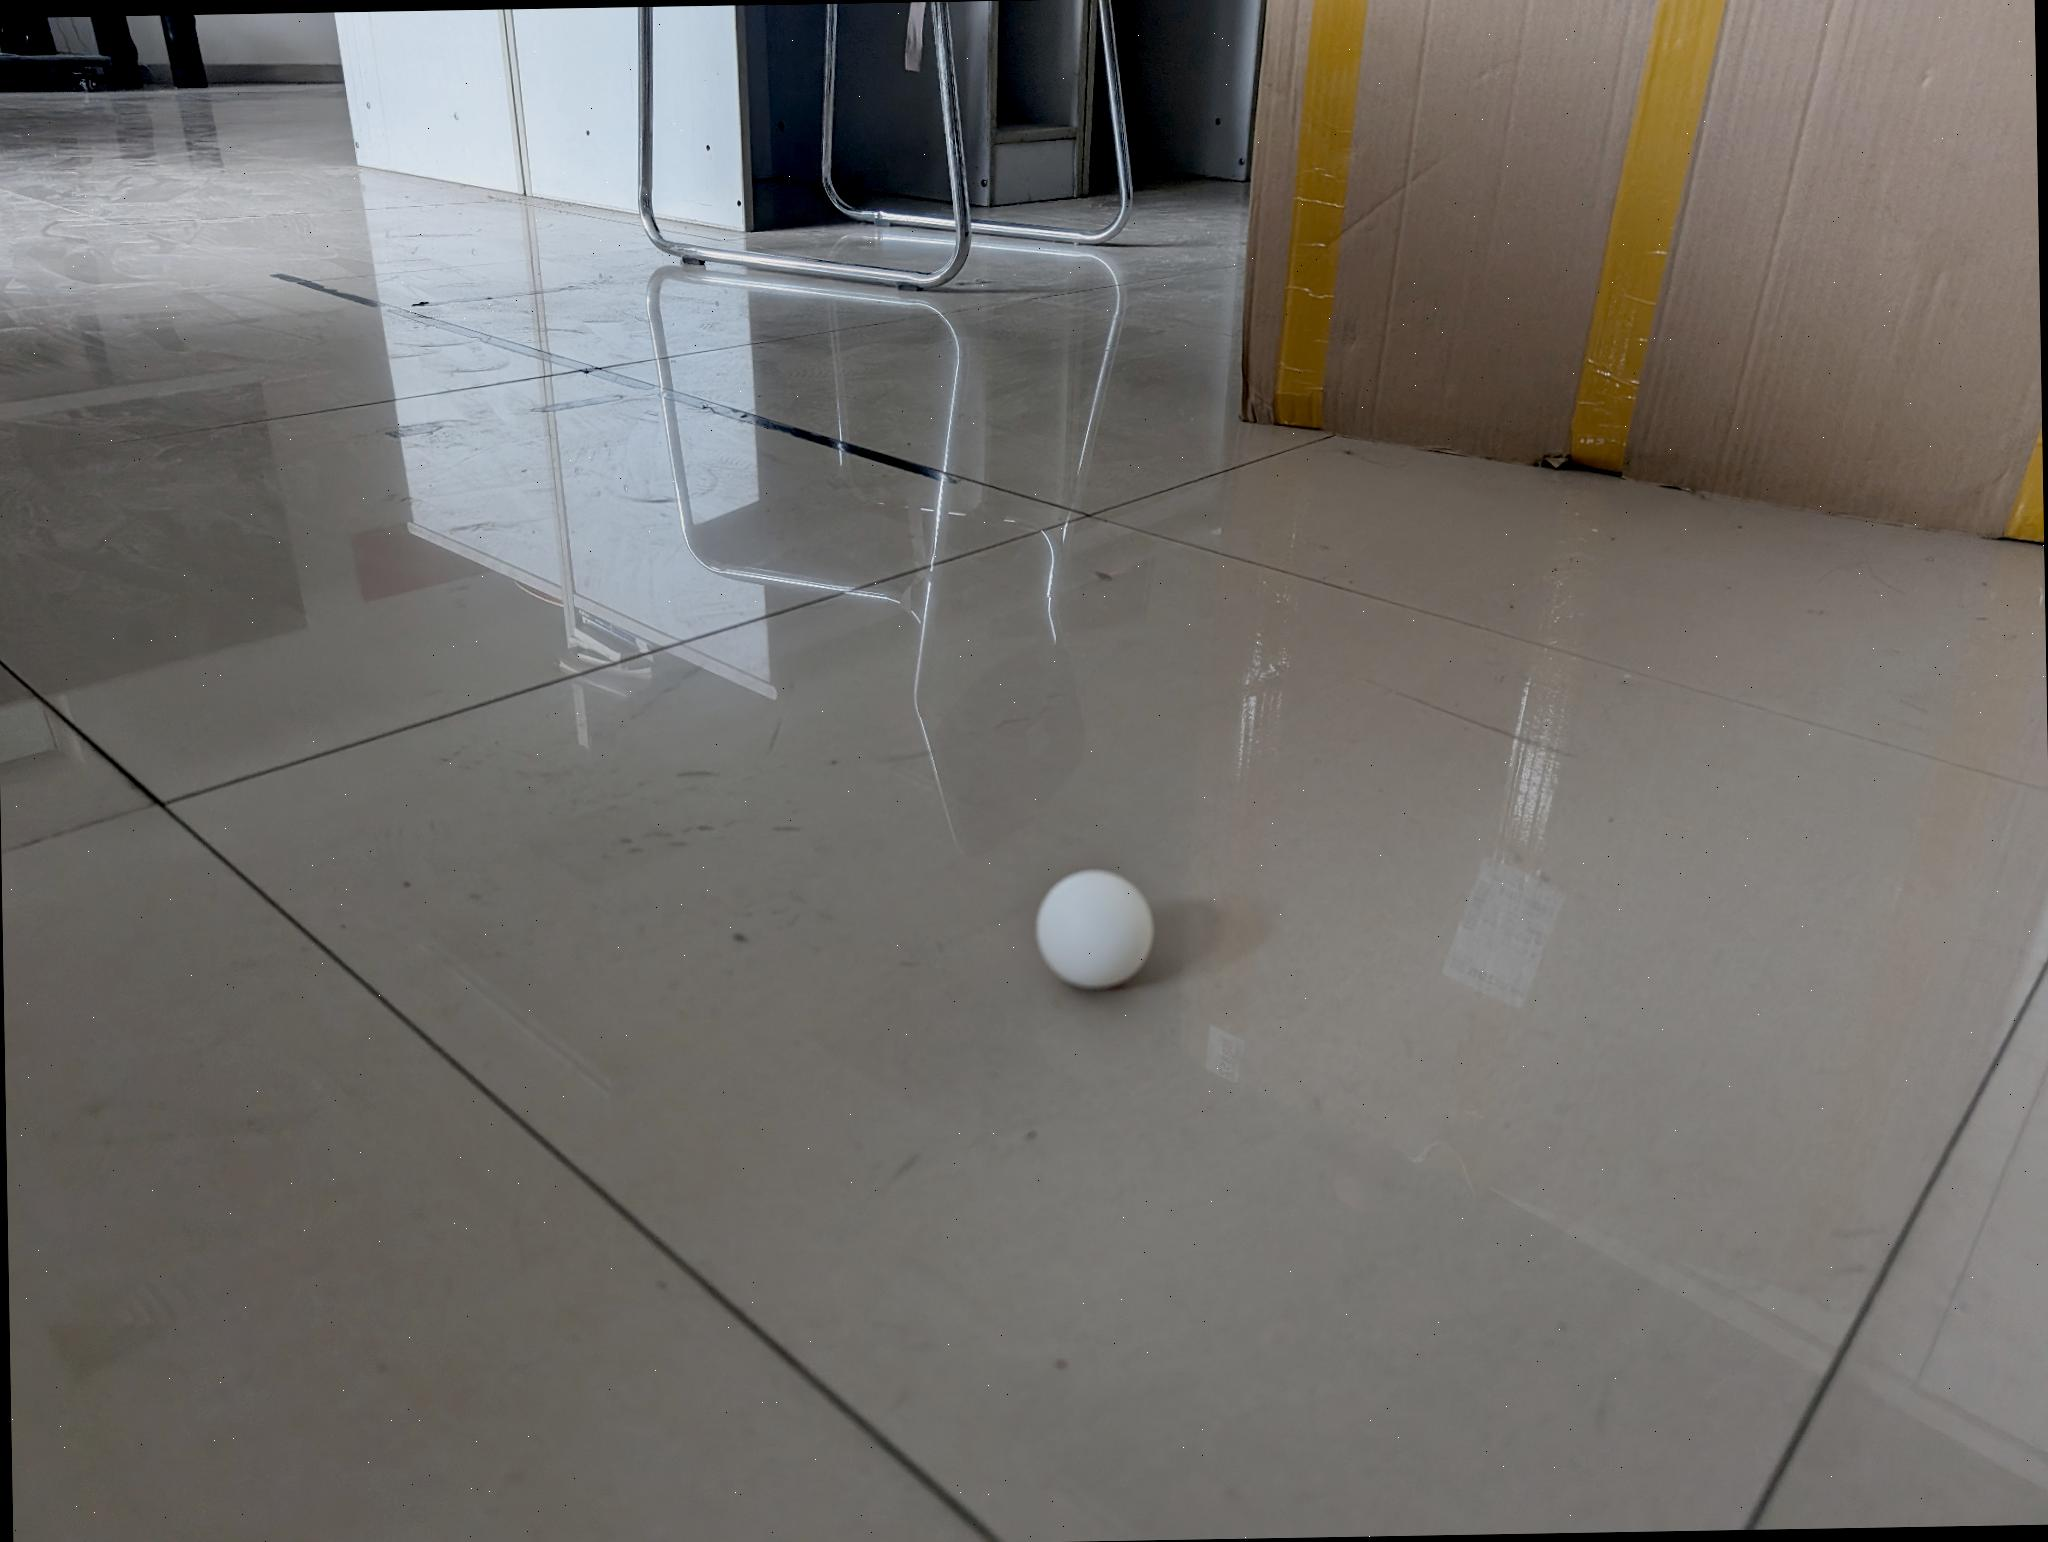ball: (1025, 857, 1159, 1001)
